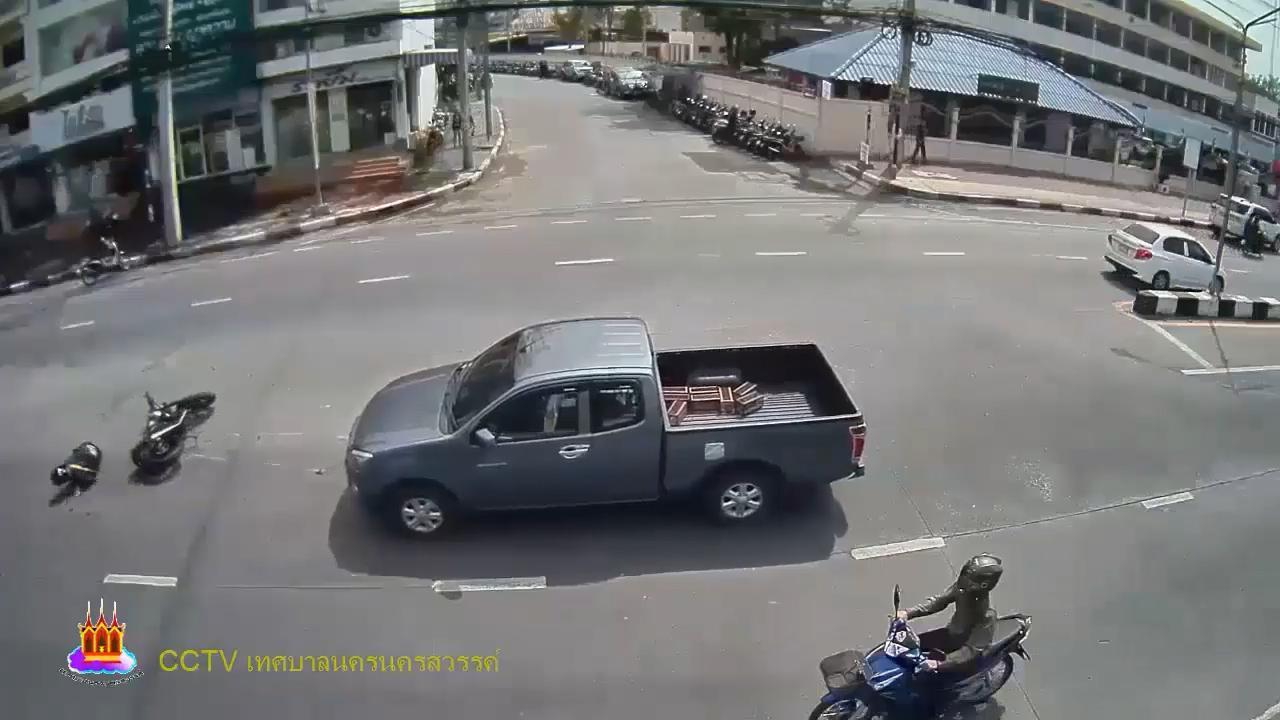accident: (52, 441, 105, 502)
